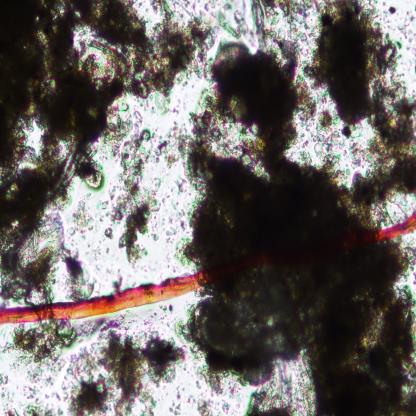Background material: (184, 135, 416, 414), (0, 0, 214, 211), (316, 0, 416, 210), (204, 37, 316, 155), (189, 112, 319, 207), (62, 329, 186, 415), (106, 115, 162, 265), (214, 1, 316, 38), (12, 321, 76, 365), (317, 111, 362, 165), (62, 247, 95, 302), (160, 124, 188, 164), (69, 200, 94, 242), (21, 396, 63, 416), (397, 10, 416, 52), (82, 320, 129, 336), (0, 372, 17, 416), (25, 366, 55, 390), (196, 397, 222, 416), (112, 271, 124, 295), (176, 173, 188, 195), (163, 224, 179, 238), (102, 226, 114, 240), (387, 6, 399, 18)
Microfibre: (0, 210, 416, 326)
